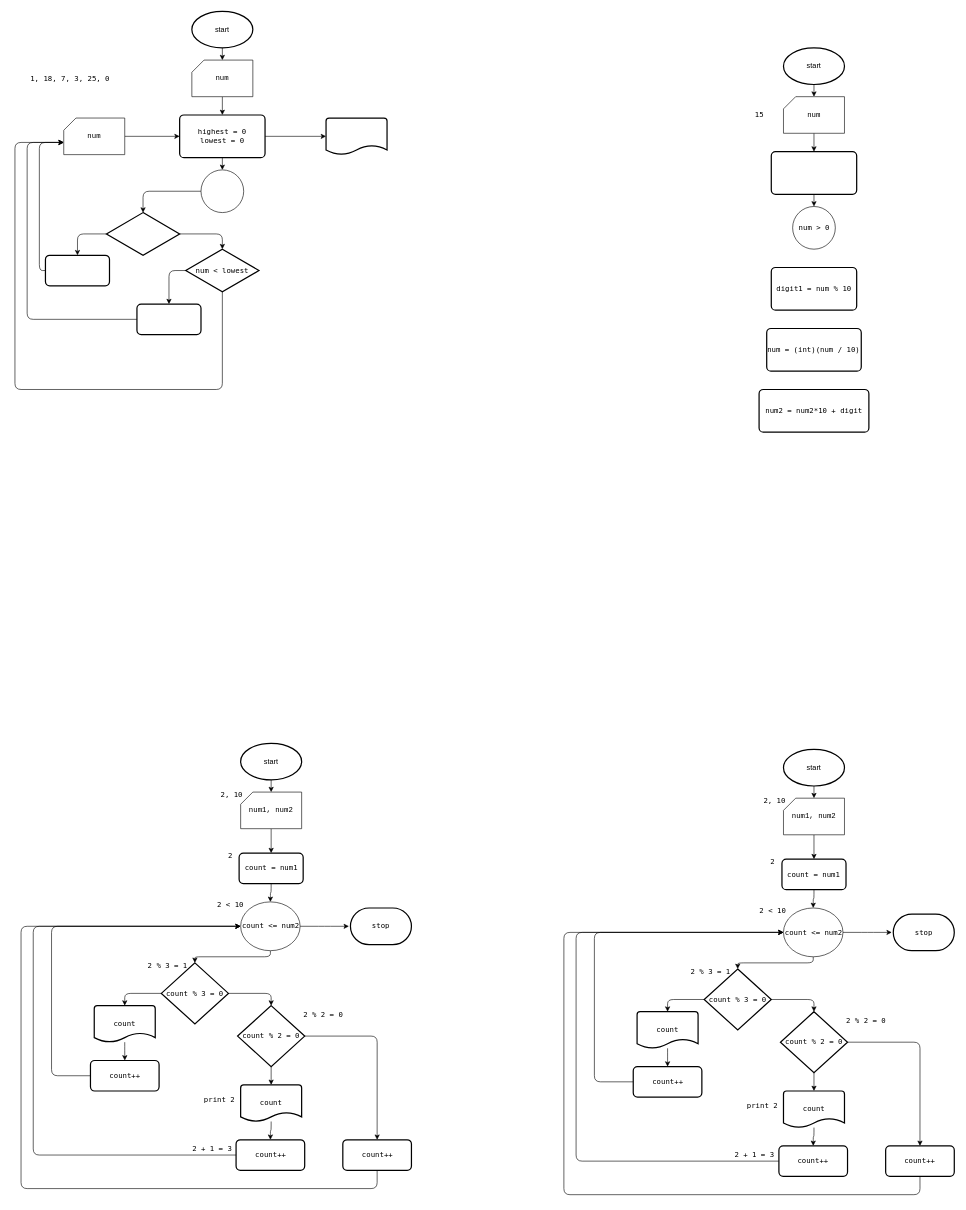
The diagram is 966 pixels wide and 1210 high, and some of its shapes have lost their labels. Each missing label, with the centre of its shape:
"highest = num" goes at point 77,270.
"lowest = num" goes at point 168,319.
"lowest, highest" goes at point 356,136.
"num != 0" goes at point 222,191.
"num > highest" goes at point 143,234.
"num2 = 0" goes at point 813,173.
